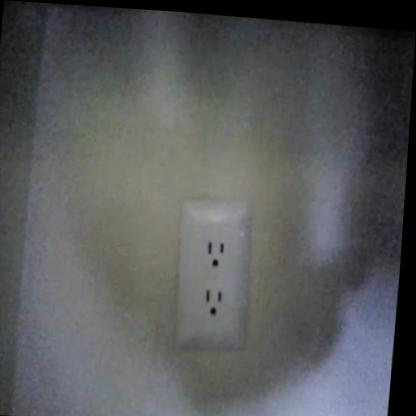OUTLET: (171, 195, 254, 351)
